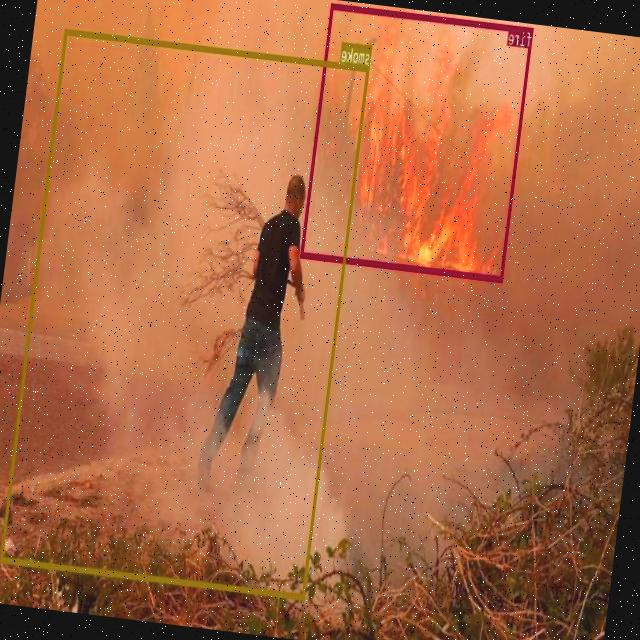fire: (300, 2, 534, 280)
smoke: (0, 28, 370, 598)
